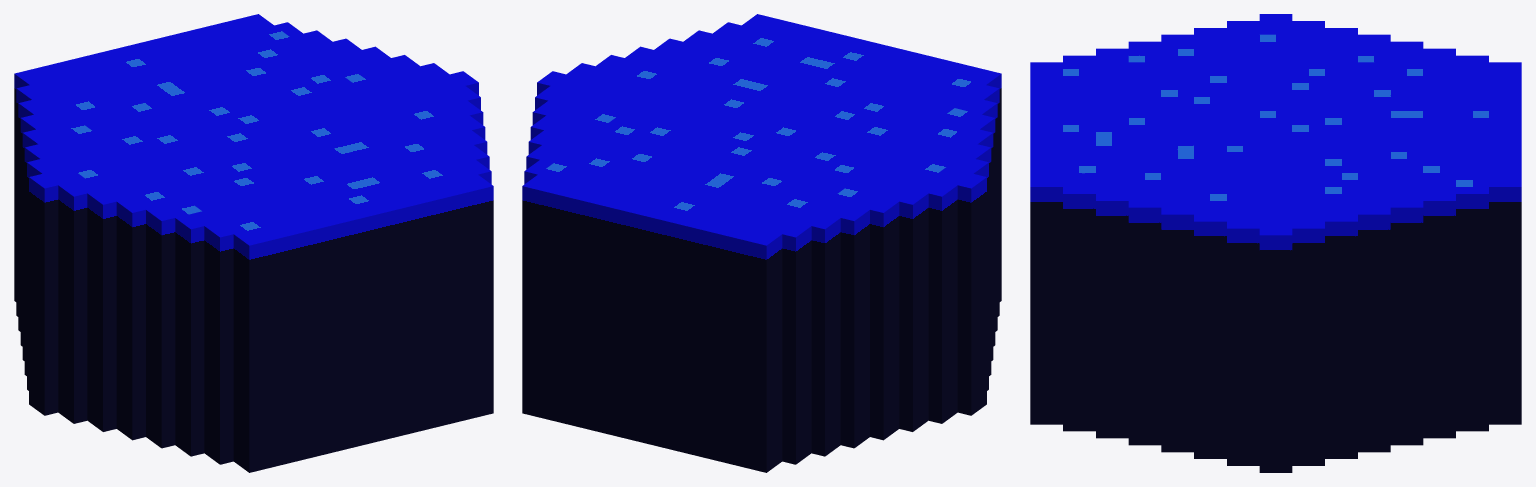
The model's file is sea.gltf.
3 renders of one model, left to right at view 1: azimuth 30°, elevation 25°; view 2: azimuth 150°, elevation 25°; view 3: azimuth 270°, elevation 25°, orthographic. The views are drawn at different scales.
Visible parts, largest first — view 1: Content-Mesh; view 2: Content-Mesh; view 3: Content-Mesh.
Boxes of the visible parts, x1,y1,x2,y2 form: Content-Mesh: (14,14,493,472); Content-Mesh: (522,14,1001,472); Content-Mesh: (1030,14,1521,472).
Bounding box in the file's own units: 32 × 16 × 30.
1 material, 1 textured.
